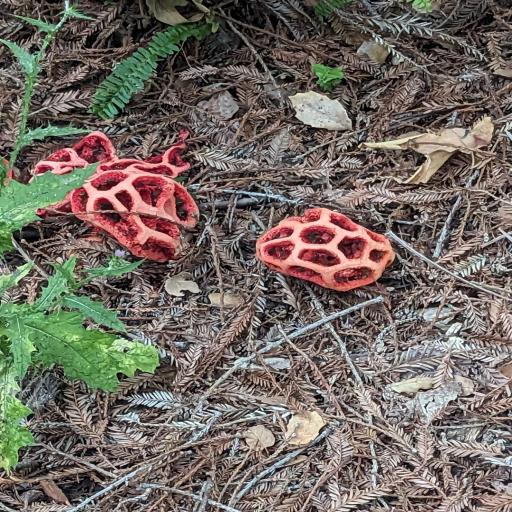Red Cage Fungus: (62, 136, 213, 276), (250, 191, 402, 306), (72, 126, 120, 174)
